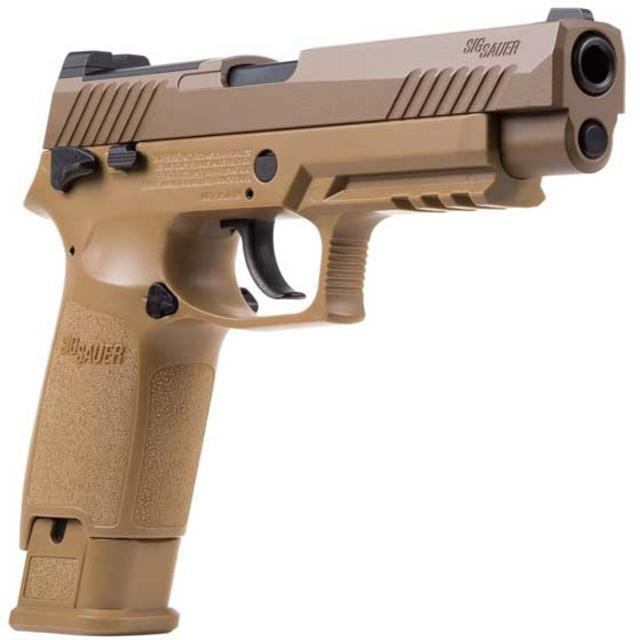Pistol: (6, 16, 640, 638)
